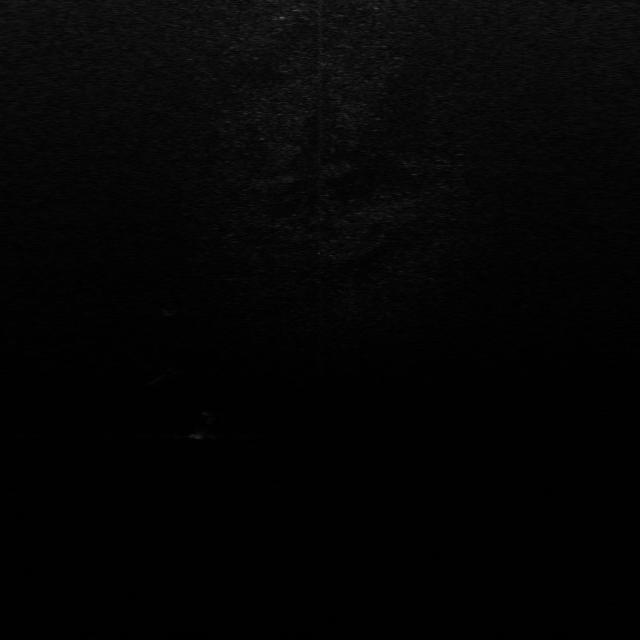ball: (166, 356, 194, 377)
circle cage: (157, 302, 182, 318)
tyre: (190, 411, 214, 439)
